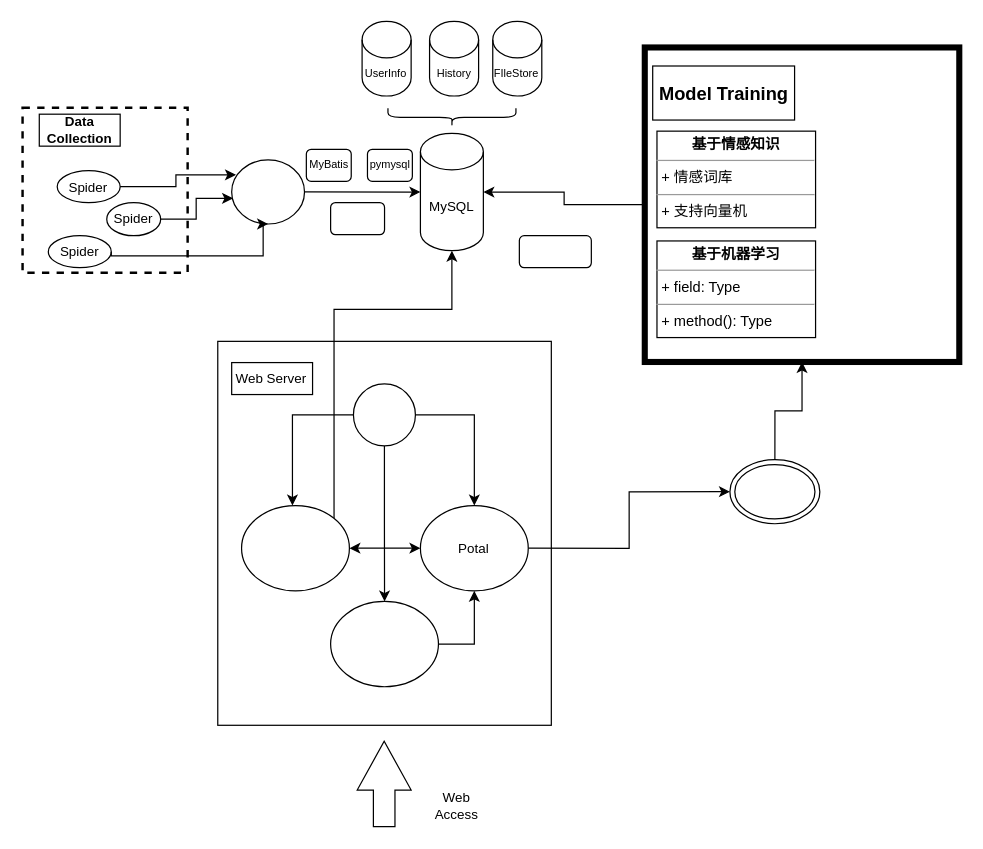
This 983x849 diagram has some shape labels left out. The shapes that lost their labels are listed below. From the top down, each one's box as (x1, y1, x2, y2) in pixels, then its label:
(230, 159, 305, 224): Java/Python Handler
(329, 201, 385, 235): Hibernate
(518, 234, 591, 268): Get Dataset
(352, 383, 415, 446): NACOS
(729, 458, 820, 524): REST API
(240, 504, 349, 591): Widget
(329, 600, 438, 687): Gateway
